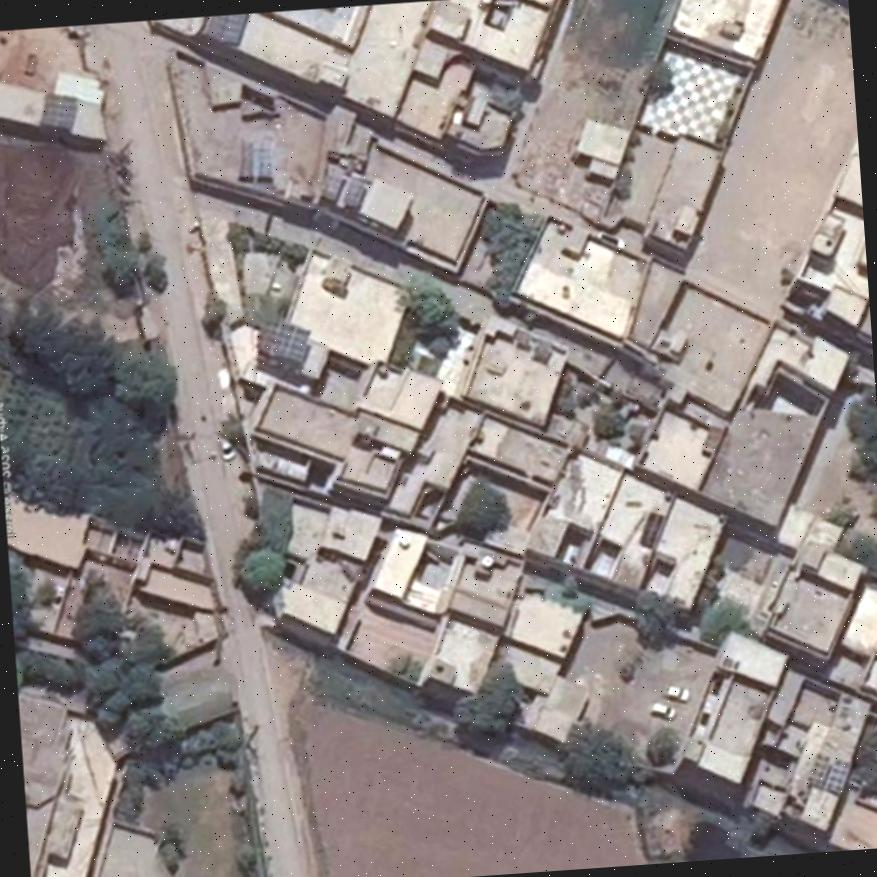Solarpanel: (270, 318, 310, 360), (38, 96, 74, 125)
